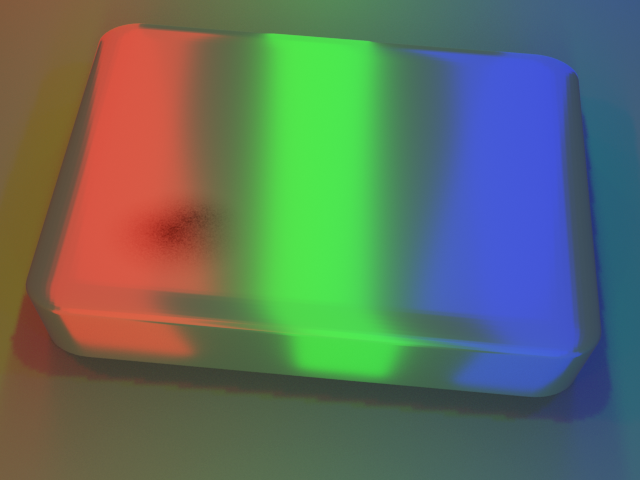stain: (40, 161, 249, 286)
